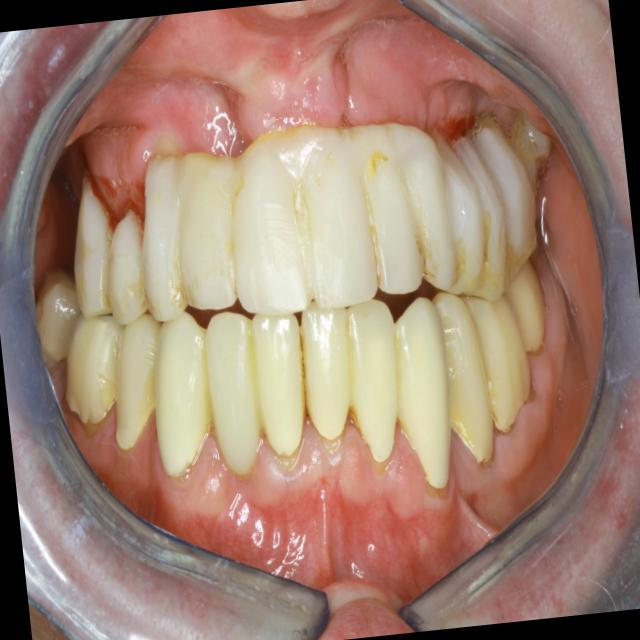tooth: (217, 126, 319, 327), (284, 112, 384, 311), (381, 287, 463, 498), (348, 109, 431, 307), (424, 273, 504, 475), (163, 136, 251, 318), (123, 140, 206, 328), (452, 272, 541, 445), (143, 301, 225, 488), (384, 105, 463, 299), (467, 106, 546, 291), (198, 302, 273, 490), (244, 297, 320, 480), (333, 291, 409, 472), (423, 109, 493, 302), (447, 119, 518, 306), (96, 302, 178, 459), (50, 302, 136, 444), (294, 286, 364, 453), (59, 163, 127, 325), (97, 200, 160, 332), (26, 254, 90, 376), (498, 96, 560, 204), (499, 248, 554, 360)
